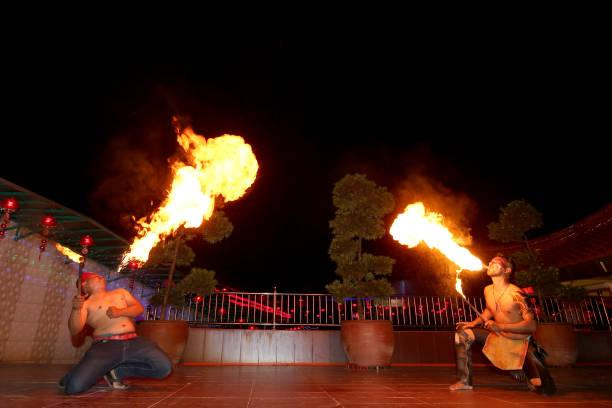Fire: (105, 120, 264, 268), (387, 196, 482, 281)
